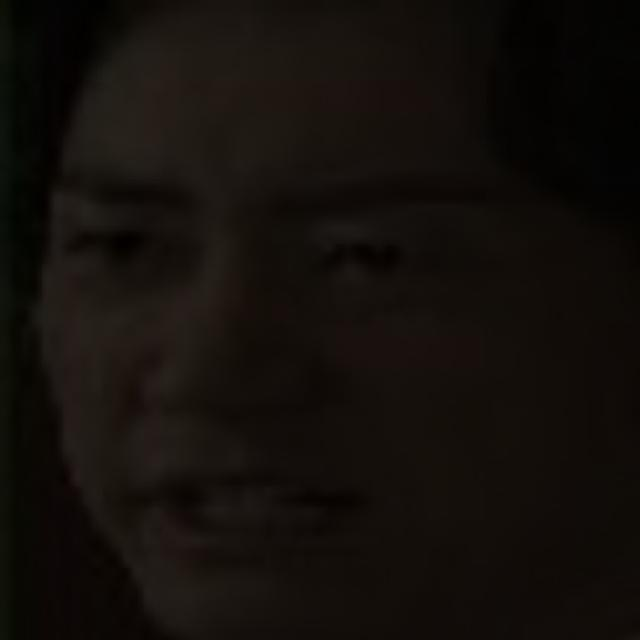Angry: (25, 85, 560, 633)
